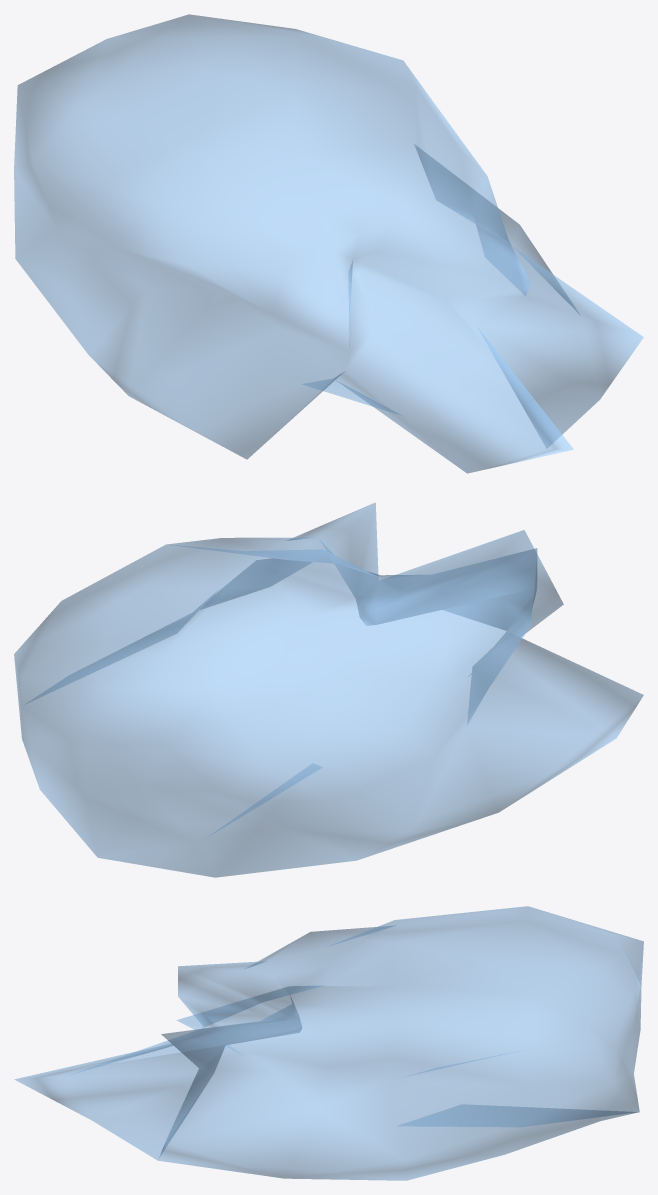
File: msupership_shield.gltf
3 views of the same model, one above another, from view 1: azimuth 30°, elevation 25°; view 2: azimuth 150°, elevation 25°; view 3: azimuth 270°, elevation 25° (orthographic). The views are drawn at different scales.
Parts seen in each view (by area): view 1: msupership.shield; view 2: msupership.shield; view 3: msupership.shield.
Boxes of the visible parts, <box> form: msupership.shield: <box>14,14,643,473</box>; msupership.shield: <box>14,502,643,877</box>; msupership.shield: <box>14,906,643,1180</box>.
Bounding box in the file's own units: 37.58 × 18.8 × 56.71.
